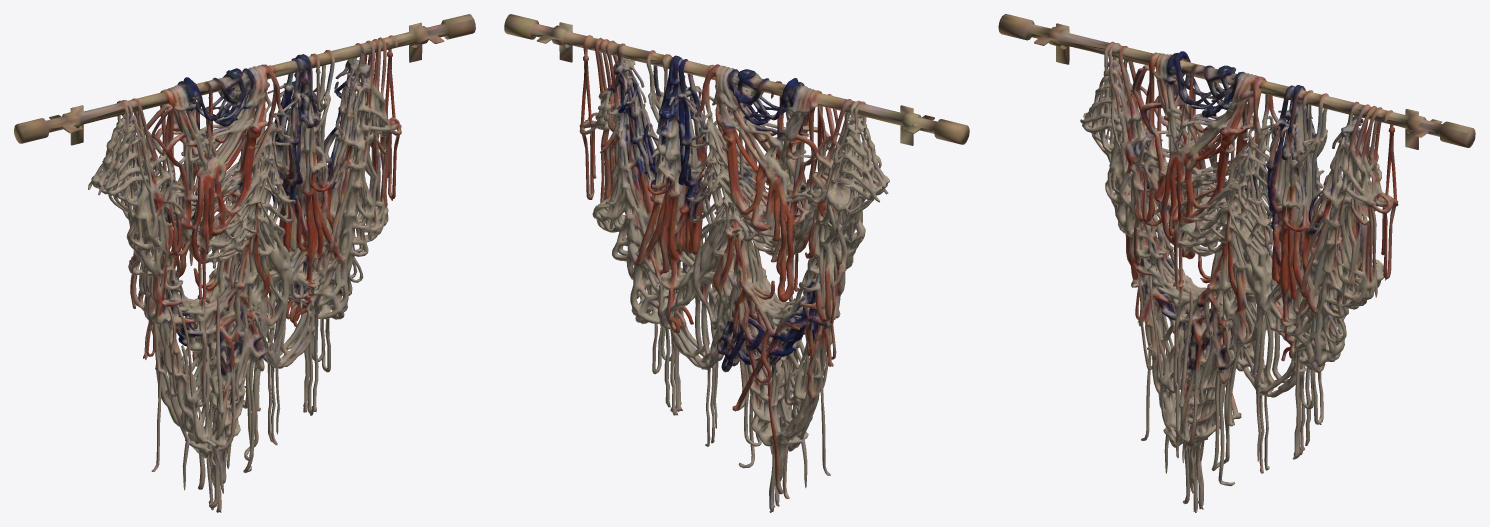
File: tangled-nets.glb
3 renders of one model, left to right at view 1: azimuth 30°, elevation 25°; view 2: azimuth 150°, elevation 25°; view 3: azimuth 330°, elevation 25°, orthographic. The views are drawn at different scales.
Visible parts, largest first — view 1: Mesh_0; view 2: Mesh_0; view 3: Mesh_0.
Boxes of the visible parts, left/top/right/bottom form: Mesh_0: left=14, top=14, right=475, bottom=512; Mesh_0: left=504, top=14, right=969, bottom=512; Mesh_0: left=998, top=14, right=1475, bottom=512.
Size of the model in its own units: 1.5 by 1.38 by 0.1912.
1 material, 1 textured.
